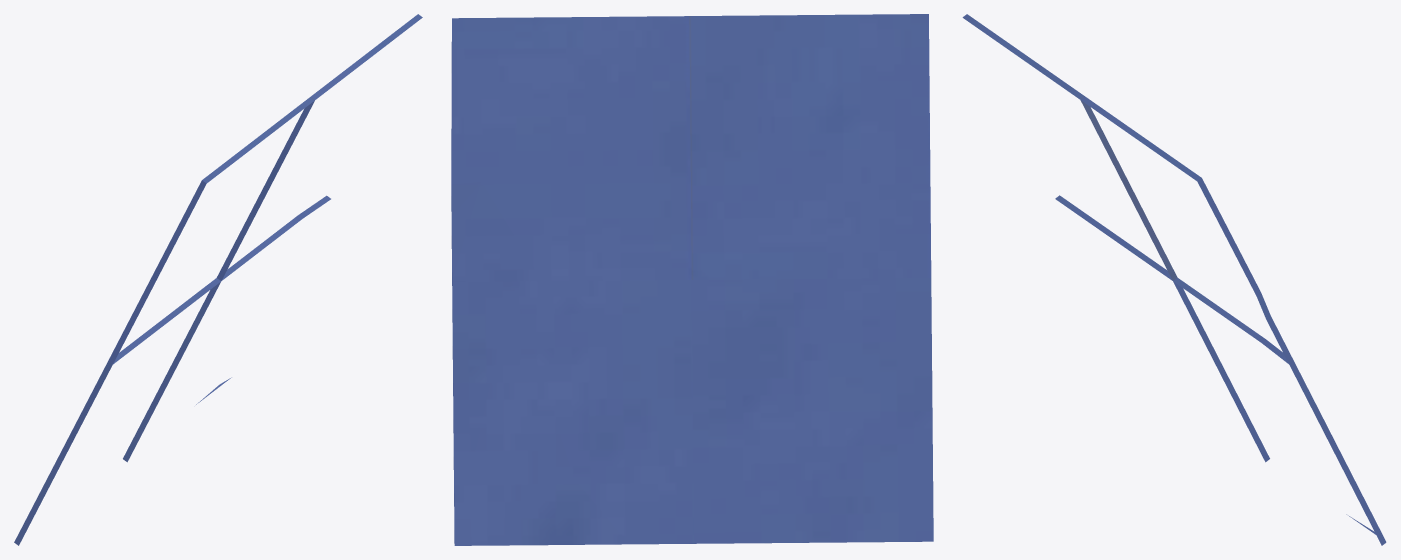
3 views of the same model, side by side, from view 1: azimuth 30°, elevation 25°; view 2: azimuth 150°, elevation 25°; view 3: azimuth 270°, elevation 25° (orthographic). The views are drawn at different scales.
Bounding box in the file's own units: 19654 × 17822 × 16584.
Materials: 1 (1 with a texture image).
